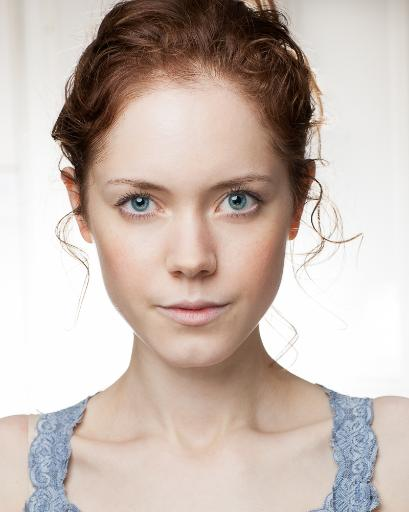left_eye: (214, 188, 267, 220)
left_lip_corner: (224, 299, 237, 314)
right_eye: (115, 192, 167, 220)
right_lip_corner: (151, 301, 168, 318)
